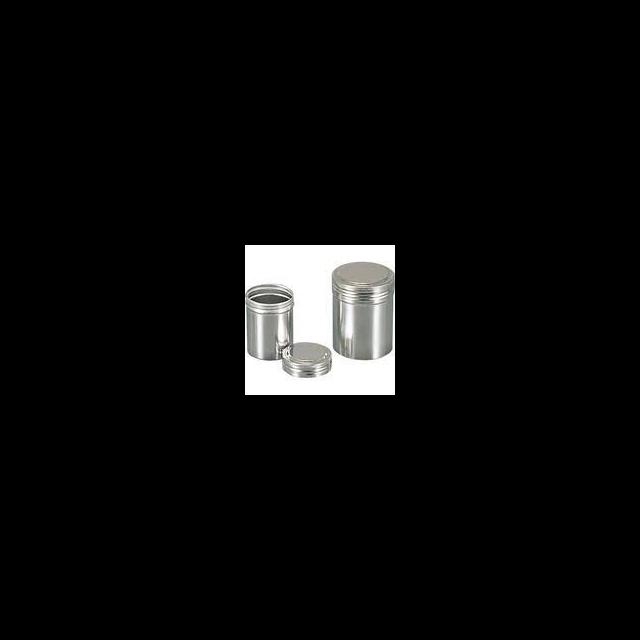metal: (330, 261, 394, 359), (245, 283, 293, 358), (280, 342, 330, 378)
